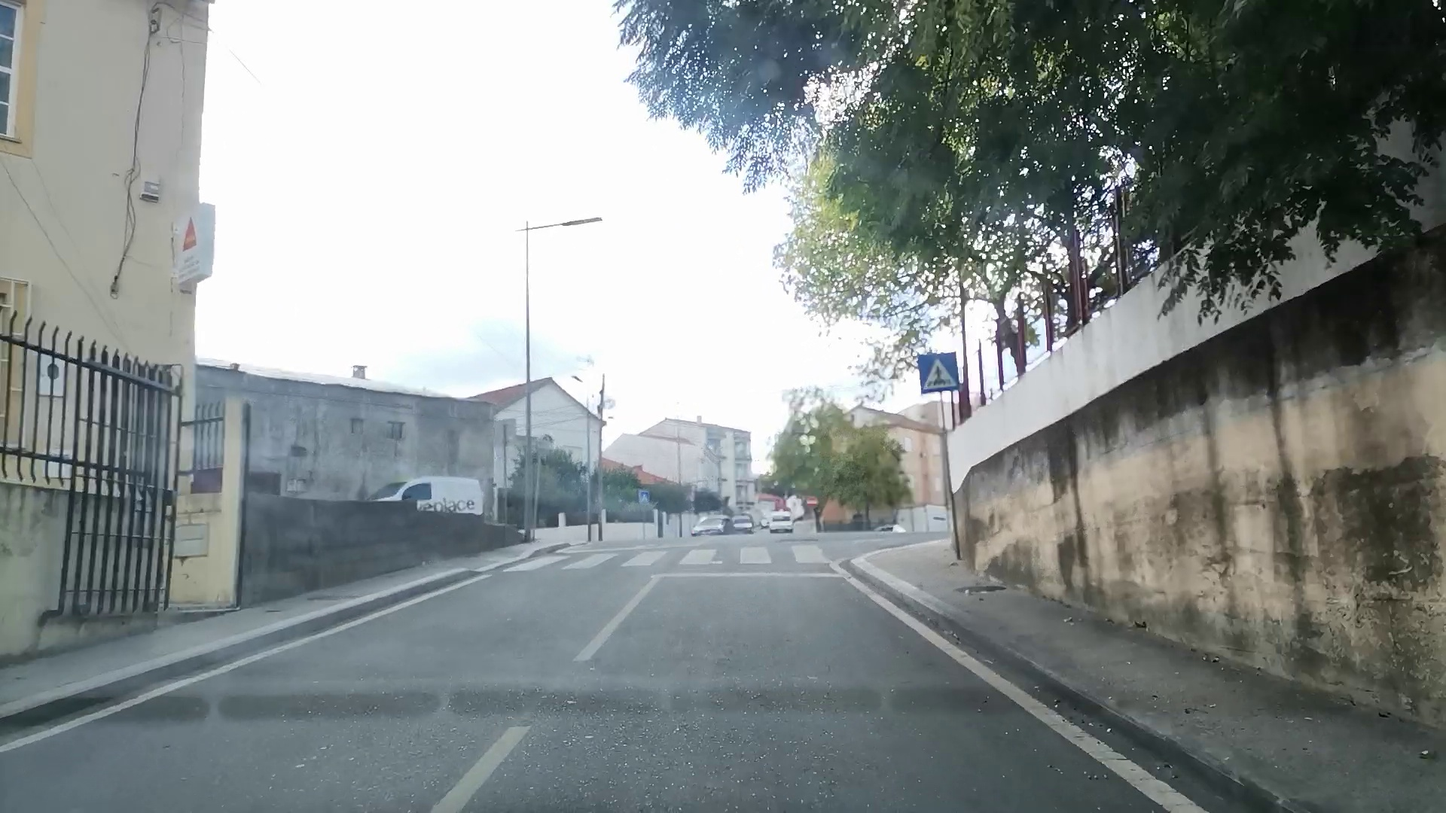Stairs: (503, 545, 838, 572)
